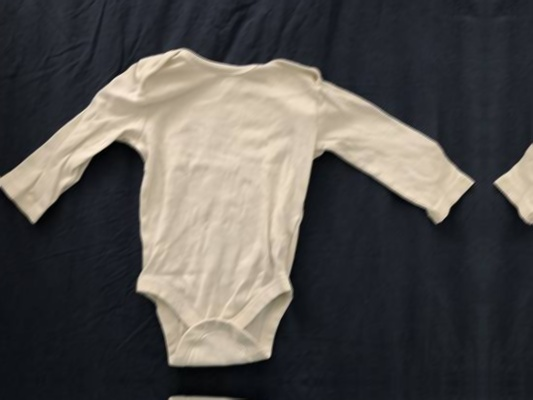Body: (0, 21, 480, 379), (489, 25, 533, 383), (0, 385, 477, 400), (486, 389, 533, 400)
